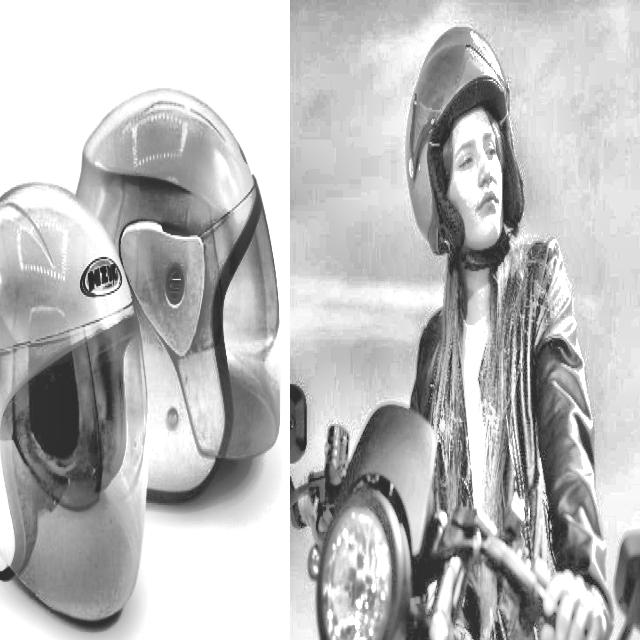Helmet: (84, 91, 286, 502), (0, 176, 147, 634), (395, 15, 526, 325)
